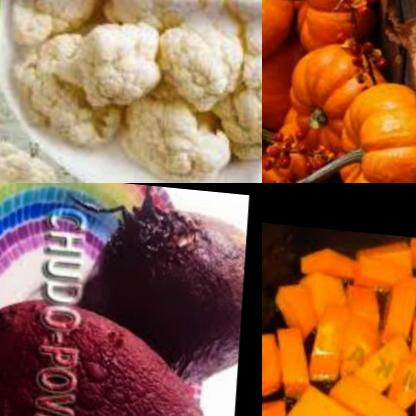beet: (86, 194, 249, 384), (0, 284, 228, 416)
cayliflower: (0, 0, 262, 170), (0, 133, 74, 183)
pumpkin: (262, 217, 416, 416), (285, 33, 385, 166), (331, 70, 416, 183), (286, 0, 381, 50), (262, 29, 306, 130), (262, 0, 298, 69)
